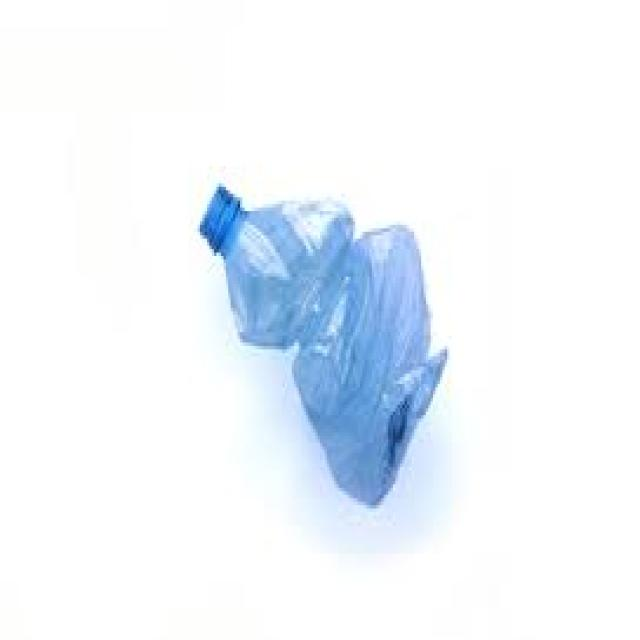Botella Plastica: (173, 169, 466, 521)
